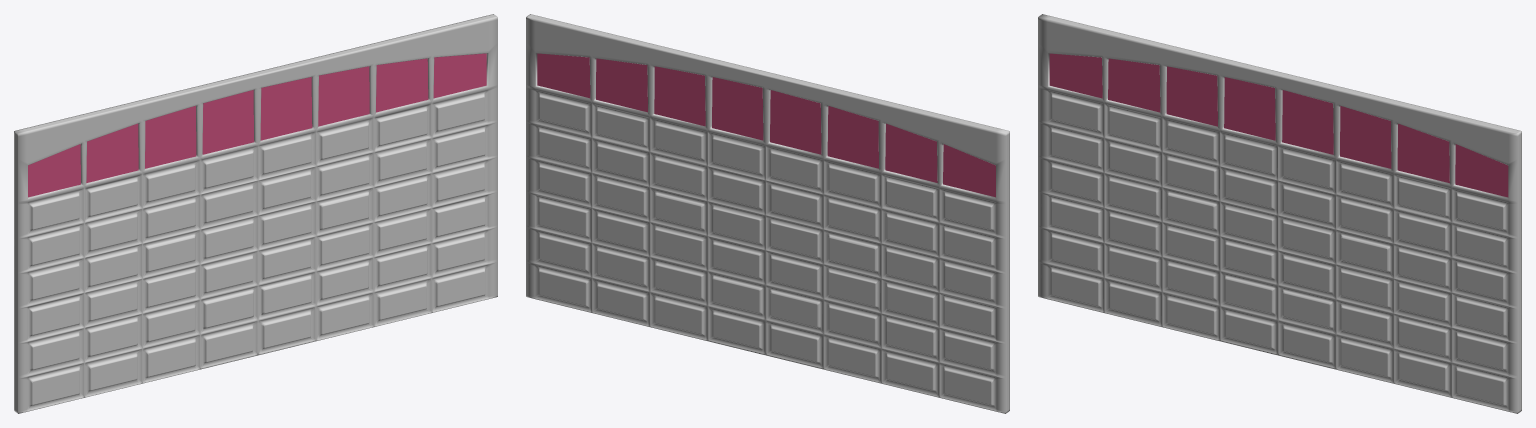
Rendered from GarageDoorGlass.fbx.
3 renders of one model, left to right at view 1: azimuth 30°, elevation 25°; view 2: azimuth 150°, elevation 25°; view 3: azimuth 330°, elevation 25°, orthographic.
Visible parts, largest first — view 1: GarageDoor_LOD0, Glass; view 2: GarageDoor_LOD0, Glass; view 3: GarageDoor_LOD0, Glass.
Part boxes in pixels (left/top/right/bottom): GarageDoor_LOD0: left=14, top=14, right=497, bottom=413; Glass: left=28, top=53, right=486, bottom=197; GarageDoor_LOD0: left=526, top=14, right=1009, bottom=413; Glass: left=537, top=53, right=995, bottom=197; GarageDoor_LOD0: left=1038, top=14, right=1521, bottom=413; Glass: left=1049, top=53, right=1508, bottom=197.
Size of what is drawn, in the model's own units: 493 by 275 by 9.3.
